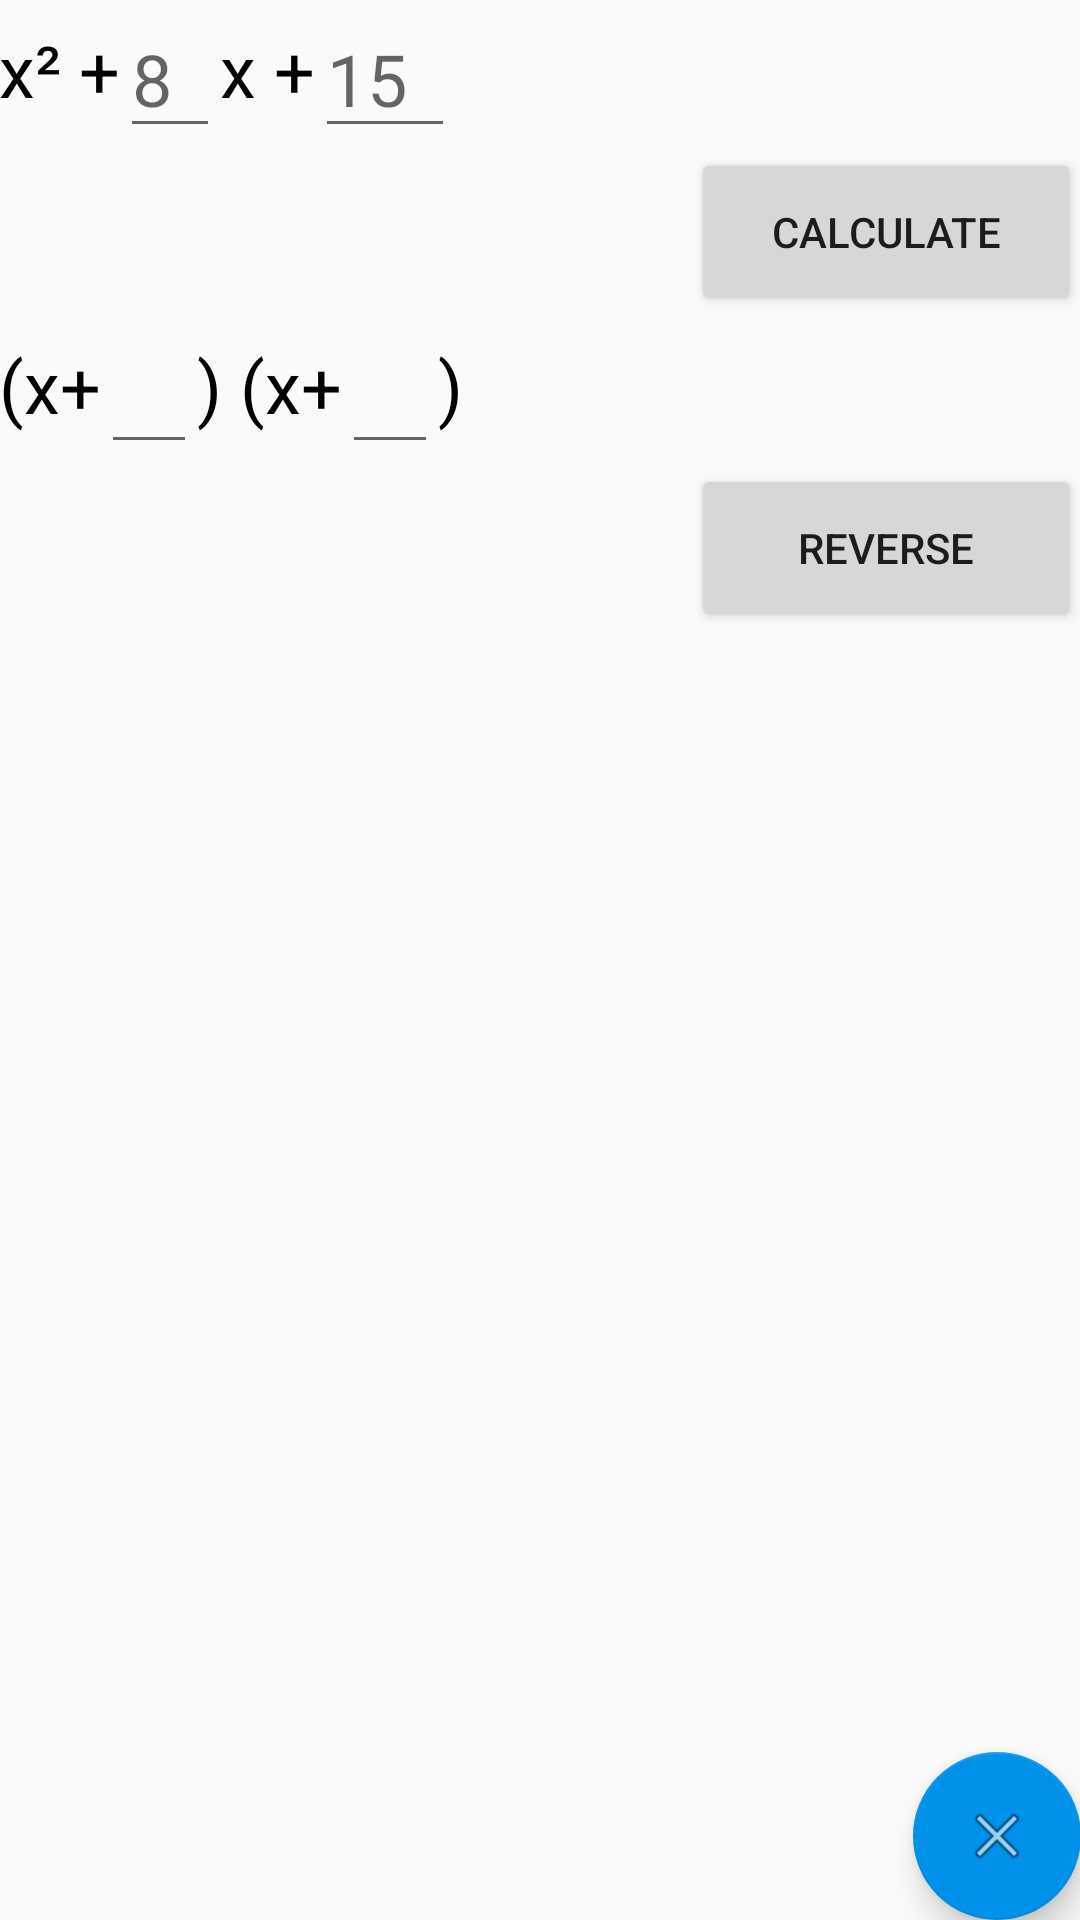

Point at icon controls on the screen. Image size 1080px x 1920px, points as (x=x, y=y).
close clear cancel: (x=996, y=1836)
